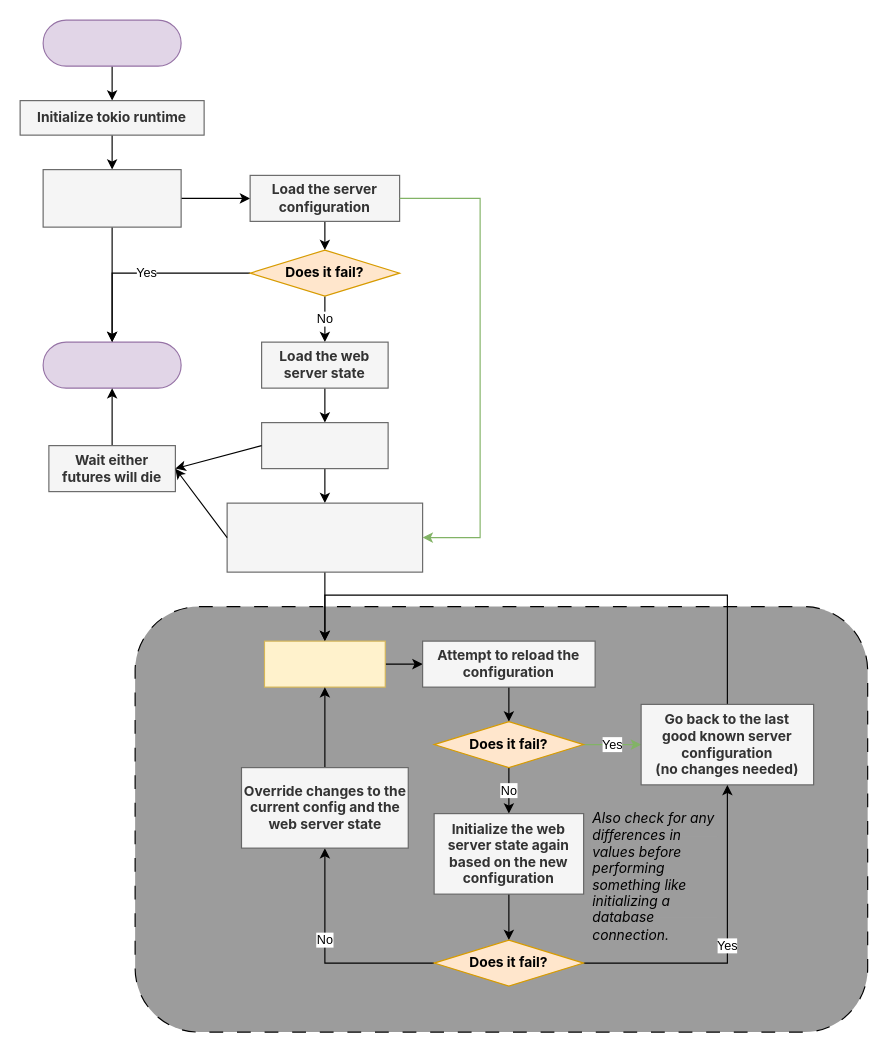
The diagram is 888 pixels wide and 1052 high, and some of its shapes have lost their labels. Each missing label, with the centre of its shape:
Block on the current thread: (x=111, y=197)
Initialize HTTP server: (x=324, y=445)
Load the file watcher to watch configuration files go change: (x=324, y=537)
Polling for file changes: (x=324, y=663)
Process ends: (x=111, y=364)
Process starts: (x=111, y=42)
